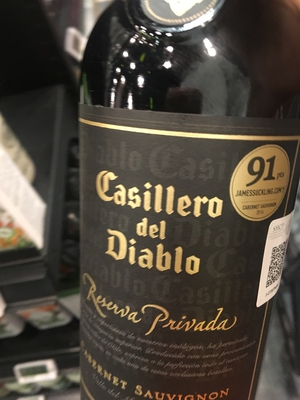casillero del diablo reserva privada cabernet sauvignon: (71, 8, 300, 400)
